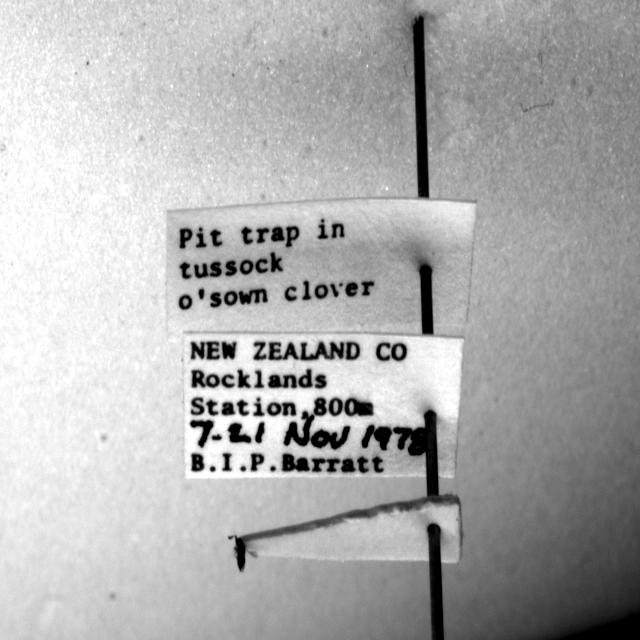mixed_label: (184, 334, 464, 478)
typed_label: (168, 199, 475, 336)
